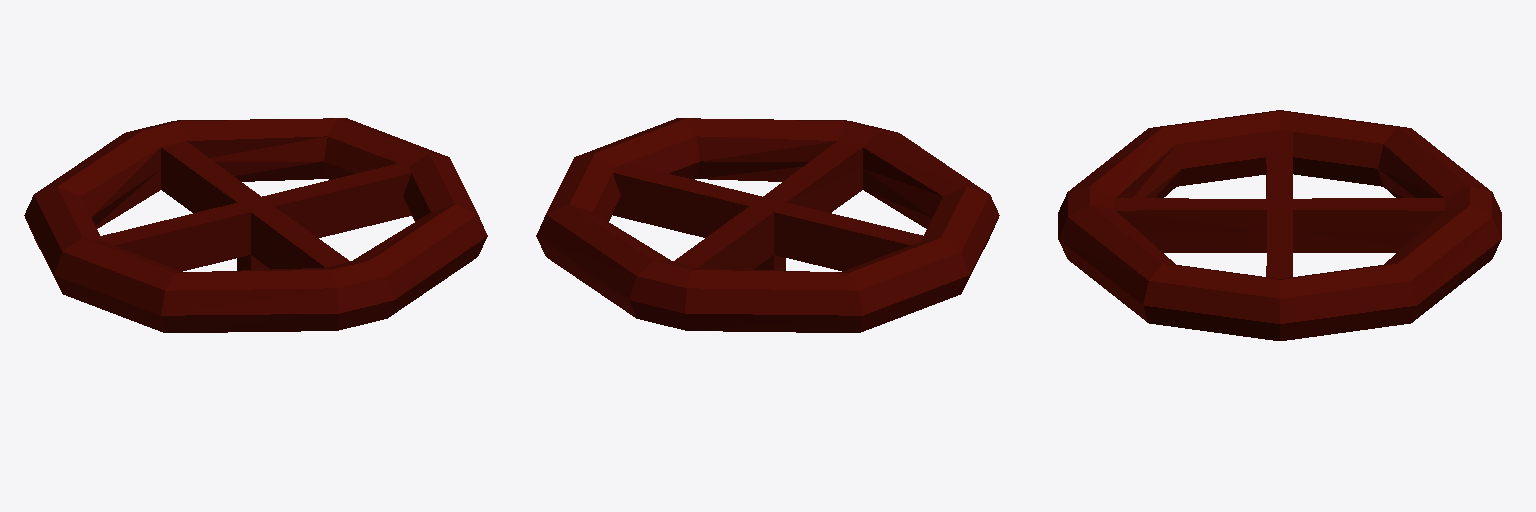
The model's file is valve.obj.
3 renders of one model, left to right at view 1: azimuth 30°, elevation 25°; view 2: azimuth 150°, elevation 25°; view 3: azimuth 270°, elevation 25°, orthographic.
Visible parts, largest first — view 1: valve; view 2: valve; view 3: valve.
Boxes of the visible parts, box(x1,y1,x2,y2) form: valve: box(24, 118, 487, 332); valve: box(536, 118, 999, 332); valve: box(1058, 110, 1501, 340).
Bounding box in the file's own units: 3.5 × 1 × 3.33.